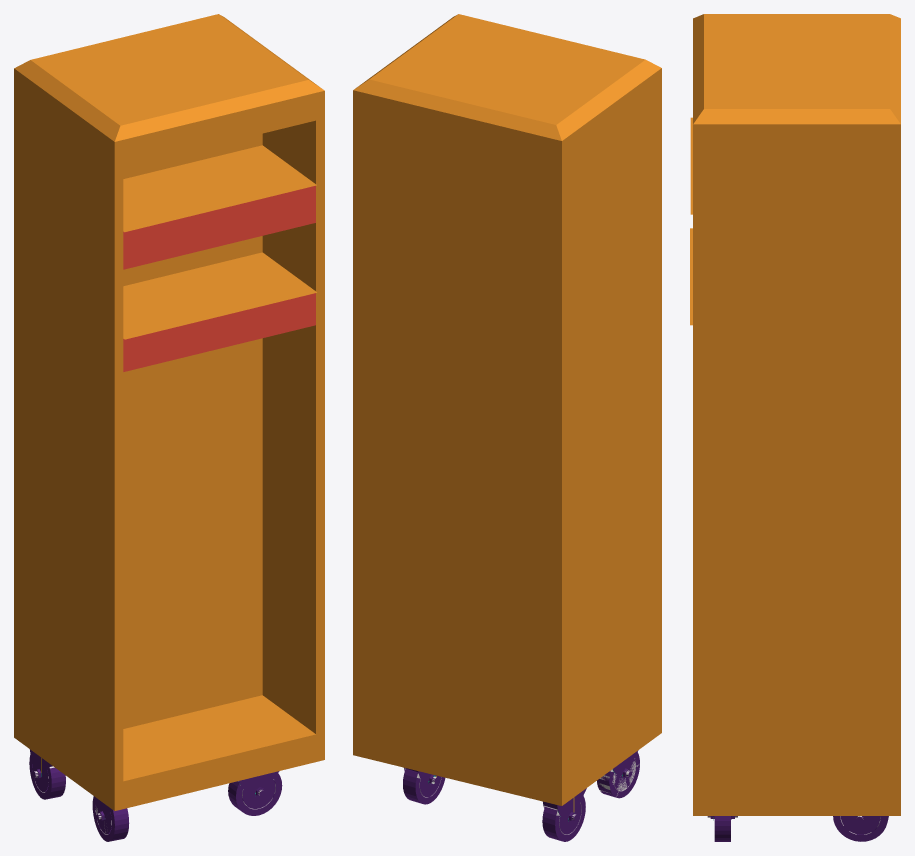
The model's file is Rack_SantinoP_47297915.fbx.
3 views of the same model, side by side, from view 1: azimuth 30°, elevation 25°; view 2: azimuth 150°, elevation 25°; view 3: azimuth 270°, elevation 25° (orthographic). The views are drawn at different scales.
Visible parts, largest first — view 1: Rueda1.003; view 2: Rueda1.003; view 3: Rueda1.003.
Boxes of the visible parts, bbox=[...] form: Rueda1.003: bbox=[14, 14, 324, 841]; Rueda1.003: bbox=[353, 14, 661, 841]; Rueda1.003: bbox=[690, 14, 900, 841].
Size of the model in its own units: 70 by 232 by 58.86.
Materials: 1 (1 with a texture image).
